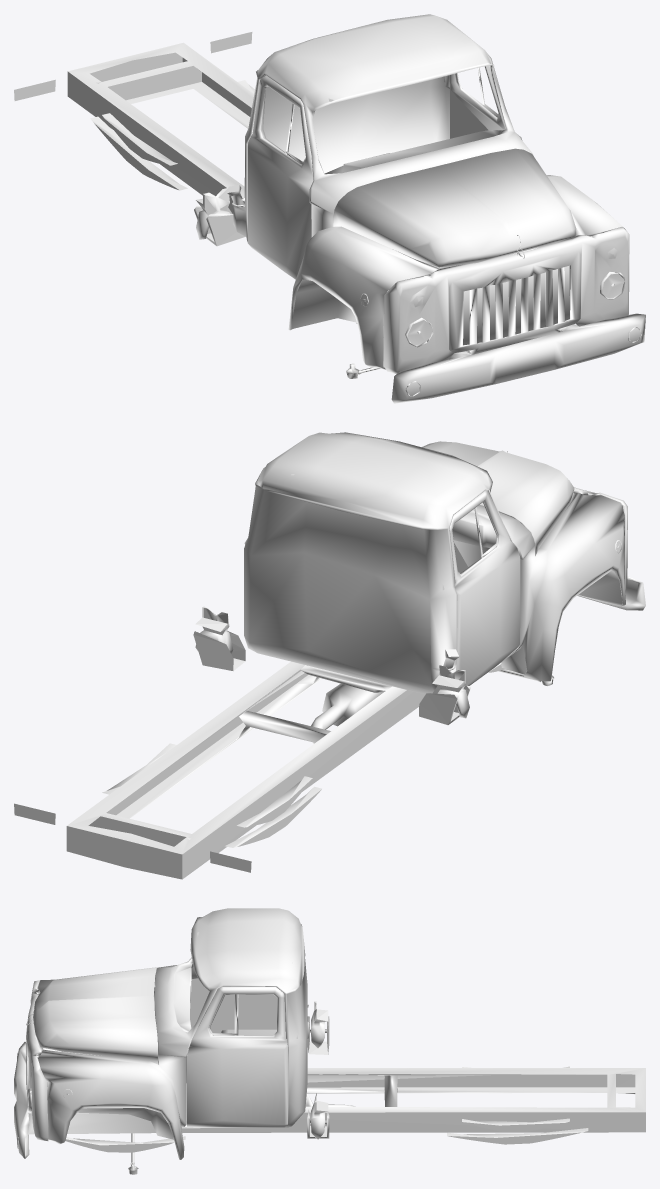
The picture shows the model from 3 angles, top to bottom: view 1: azimuth 30°, elevation 25°; view 2: azimuth 150°, elevation 25°; view 3: azimuth 270°, elevation 25°; orthographic projection. The views are drawn at different scales.
Bounding box in the file's own units: 2.25 × 2.03 × 5.82.
Materials: 1 (1 with a texture image).
